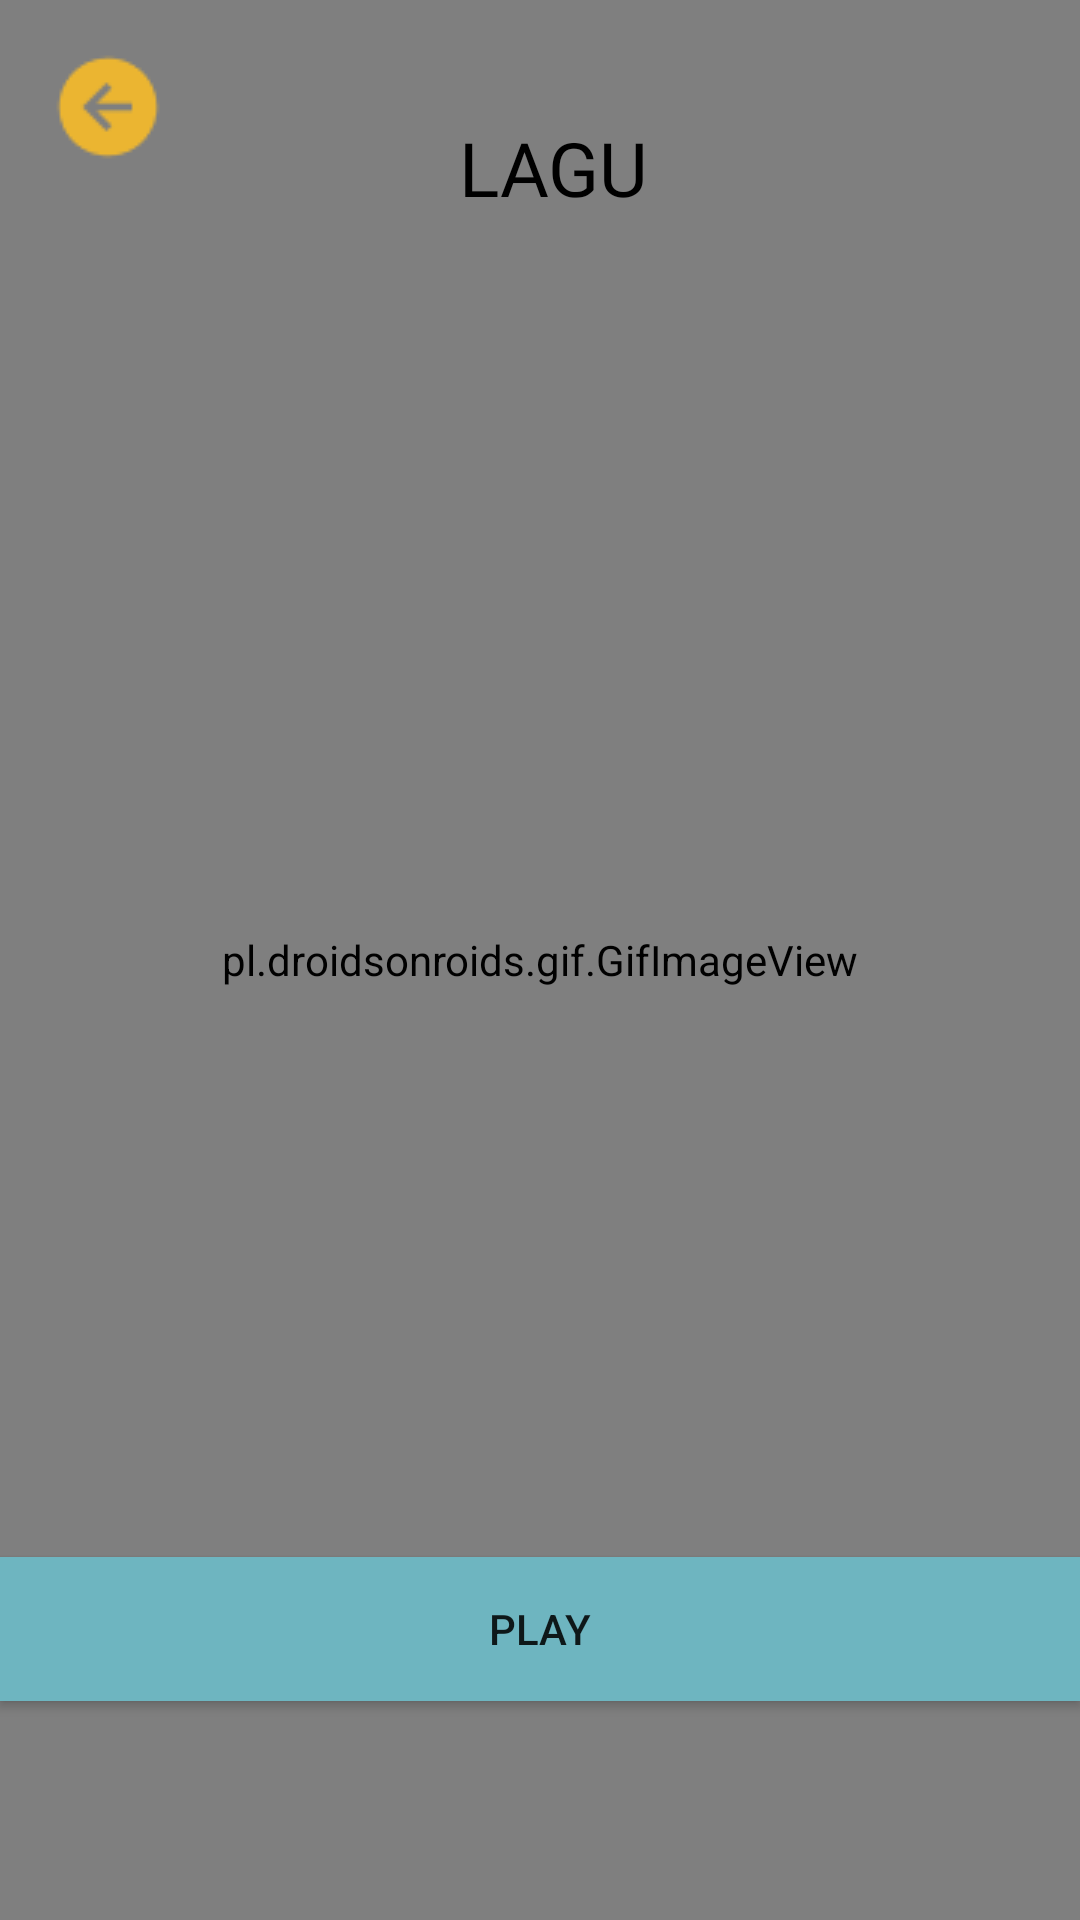

Icon bounding boxes for this 1080px x 1920px phone screenshot, format (x1, y1, x2, y2):
keluar: (58, 57, 158, 157)
